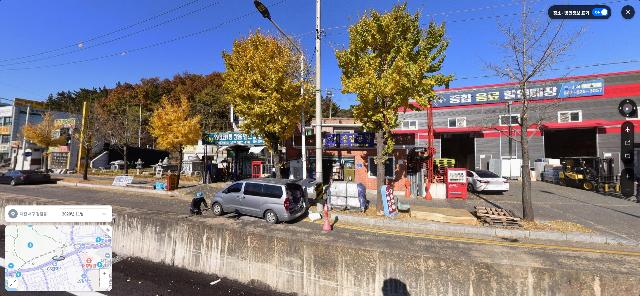ginkgo: (220, 23, 321, 179), (148, 92, 207, 189)
other: (460, 0, 611, 224), (328, 0, 455, 215), (47, 70, 229, 145), (99, 91, 160, 185), (59, 98, 115, 180), (18, 109, 69, 172)
